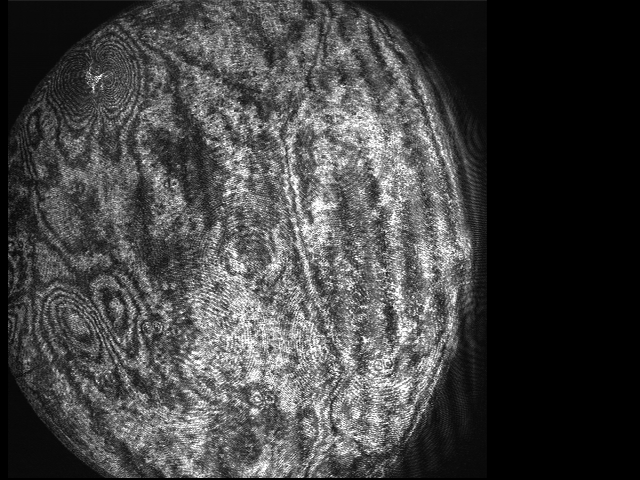plume: (53, 33, 142, 128), (47, 277, 143, 363)
